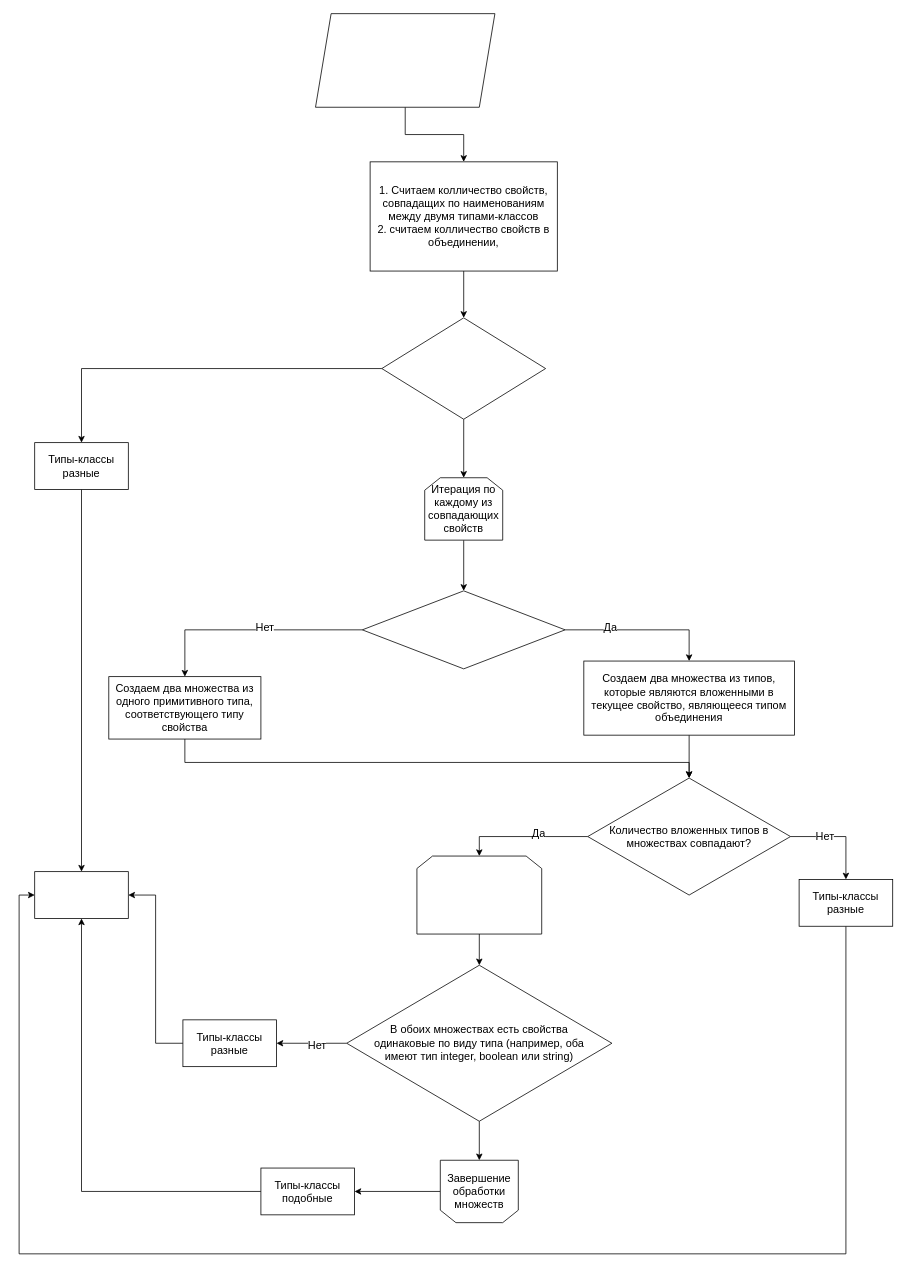
The diagram is 906 pixels wide and 1274 high, and some of its shapes have lost their labels. Each missing label, with the centre of its shape:
"Возвращаем результат сравнения" belongs at point (81, 894).
"Два типа-класса, сравнимые между собой, имеющие разное колличество свойств" belongs at point (405, 60).
"Для каждого из вложенных типов в множествах" belongs at point (479, 894).
"Коэффициент Жаккара, больше ли он чем 0,75?" belongs at point (463, 368).
"свойство имеет тип-объединение?" belongs at point (463, 629).
